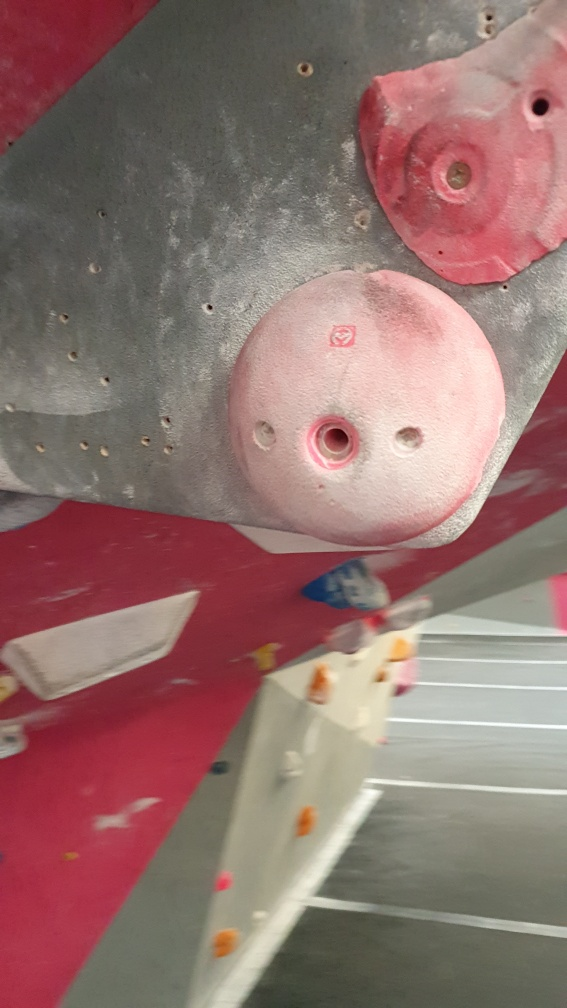Jug: (298, 553, 396, 614)
Pinch: (1, 582, 206, 706)
Sloper: (221, 265, 509, 548)
